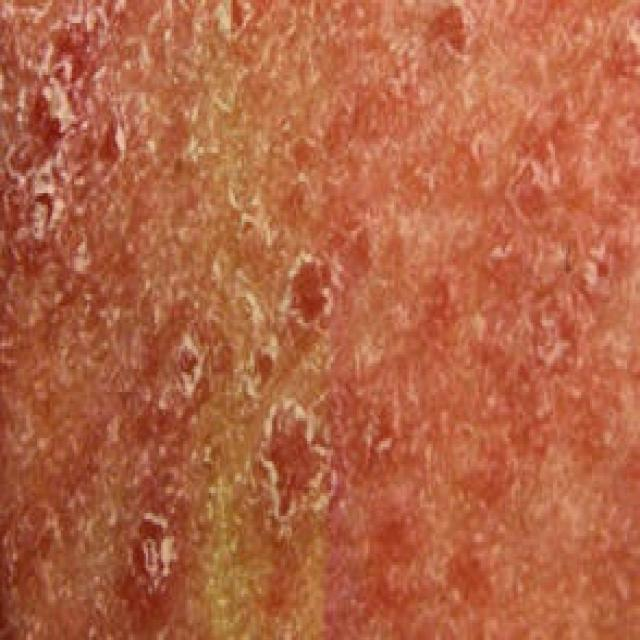Warts-Molluscum-and-other-Viral-Infections: (19, 23, 618, 593)
